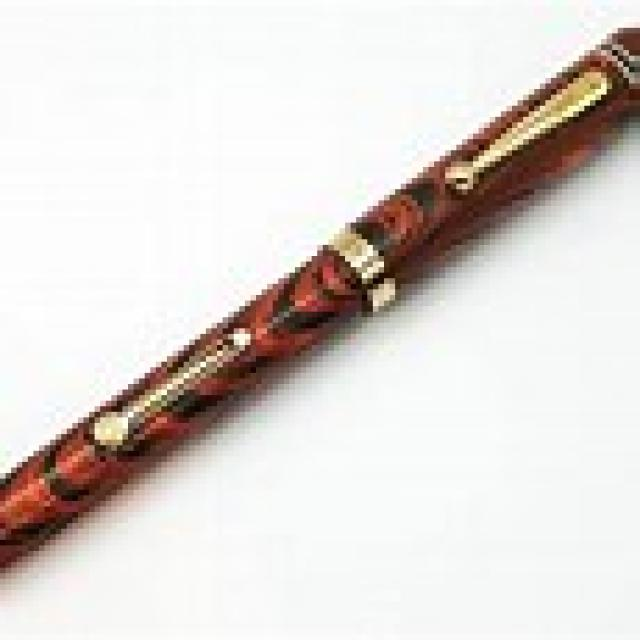pen: (0, 29, 640, 574)
